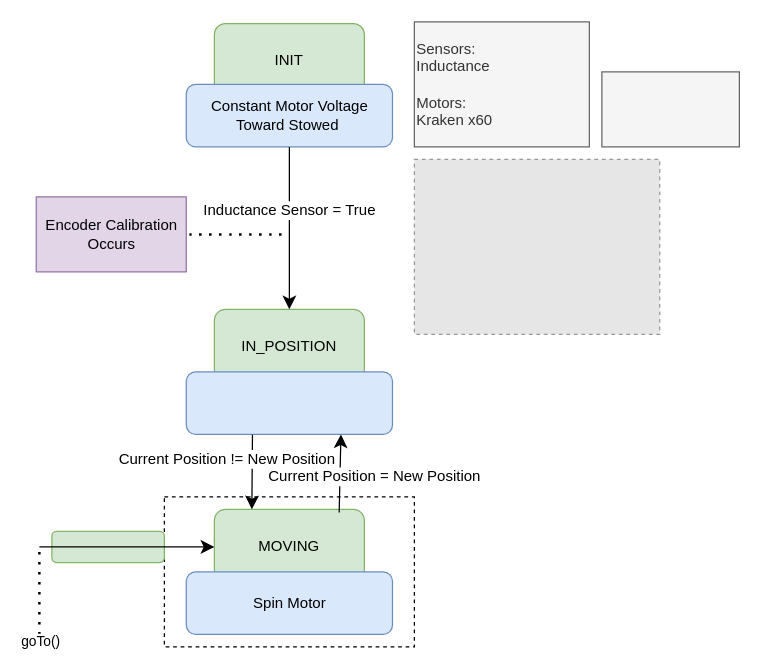
The diagram is 761 pixels wide and 671 high, and some of its shapes have lost their labels. Grey dashed boxes stand in for pictures. The shapes that lost their labels are listed below. From the top down, each one's centre as x and y in pixels, then its label:
At pixel 670 109: "Positions: - Stowed - Deployed".
At pixel 288 402: "Hold Motor Power".
At pixel 107 546: "INTERRUPT".
